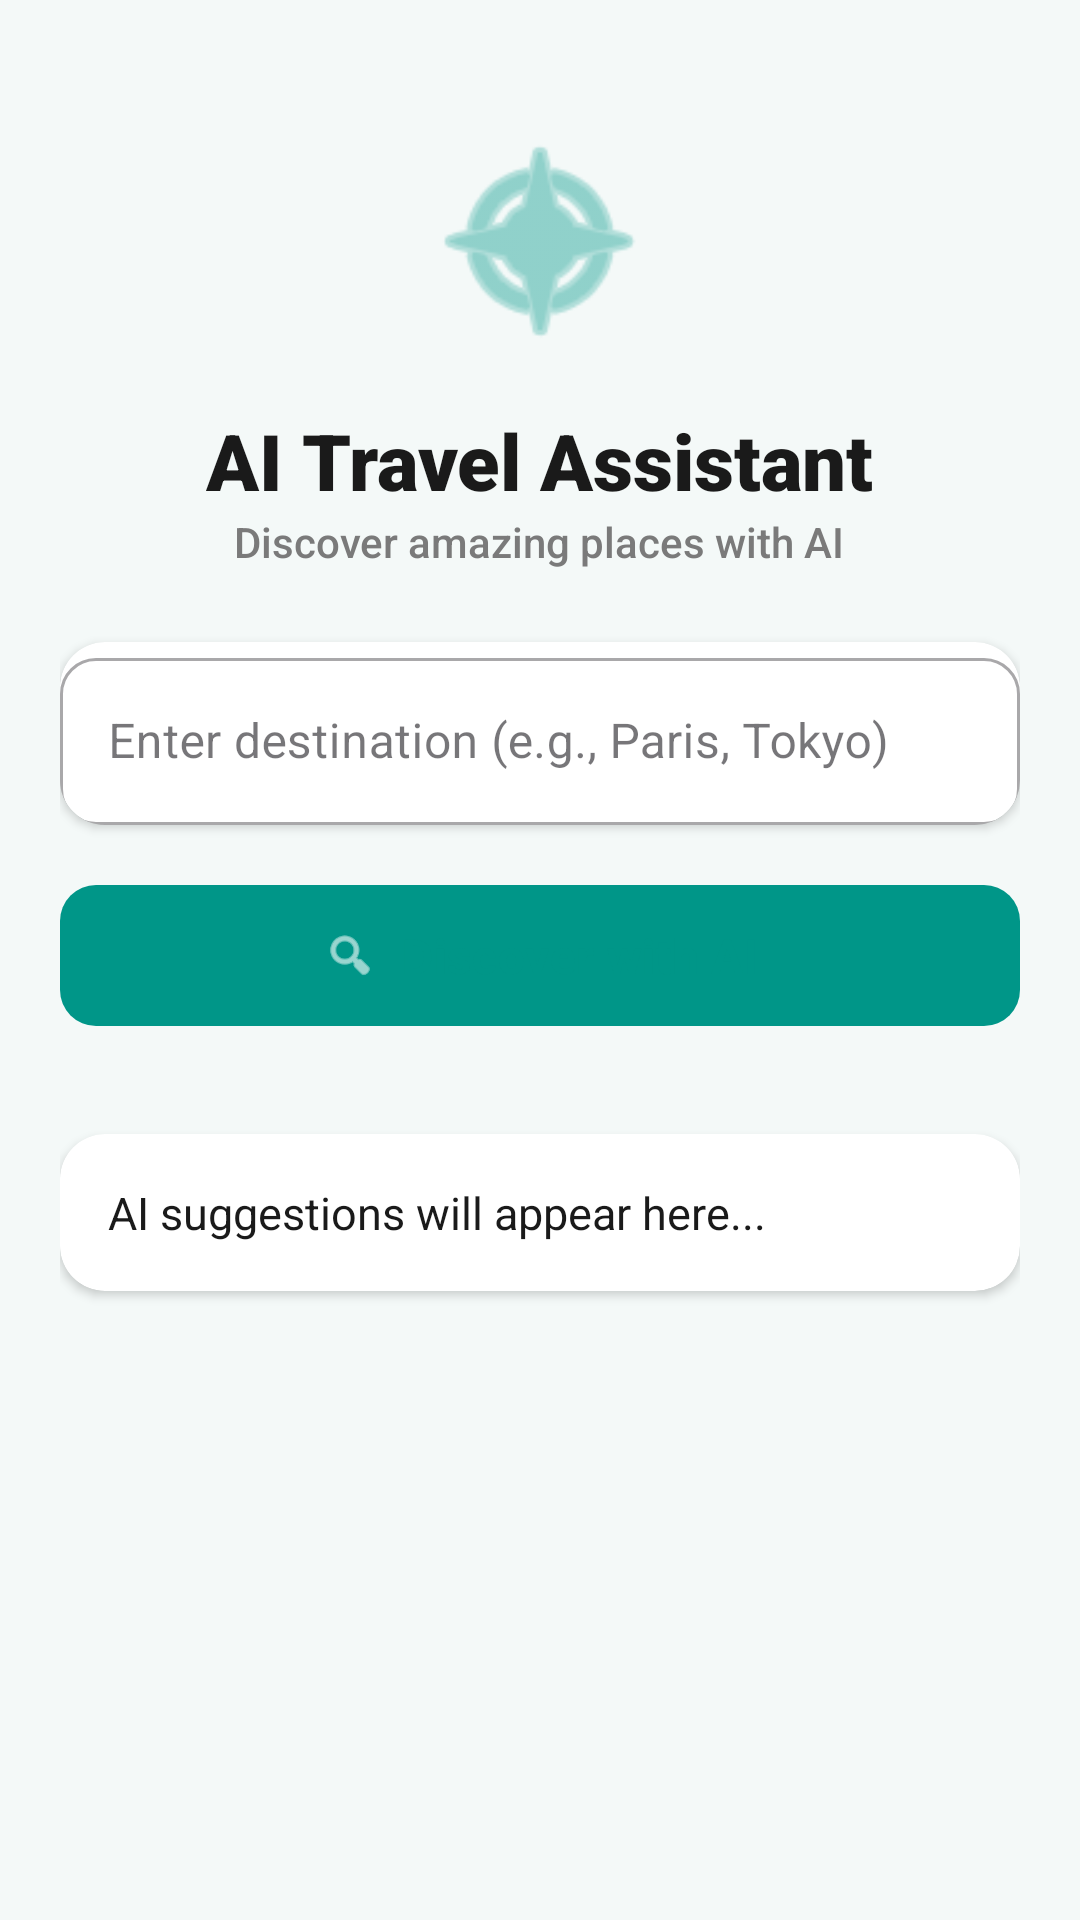

Icon bounding boxes for this 1080px x 1920px phone screenshot, format (x1, y1, x2, y2):
compass: (445, 147, 634, 336)
